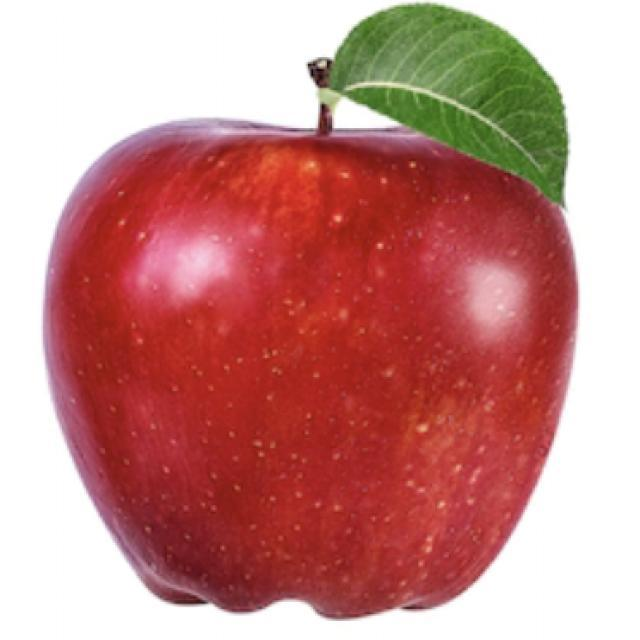Fresh Apple: (77, 110, 555, 592)
